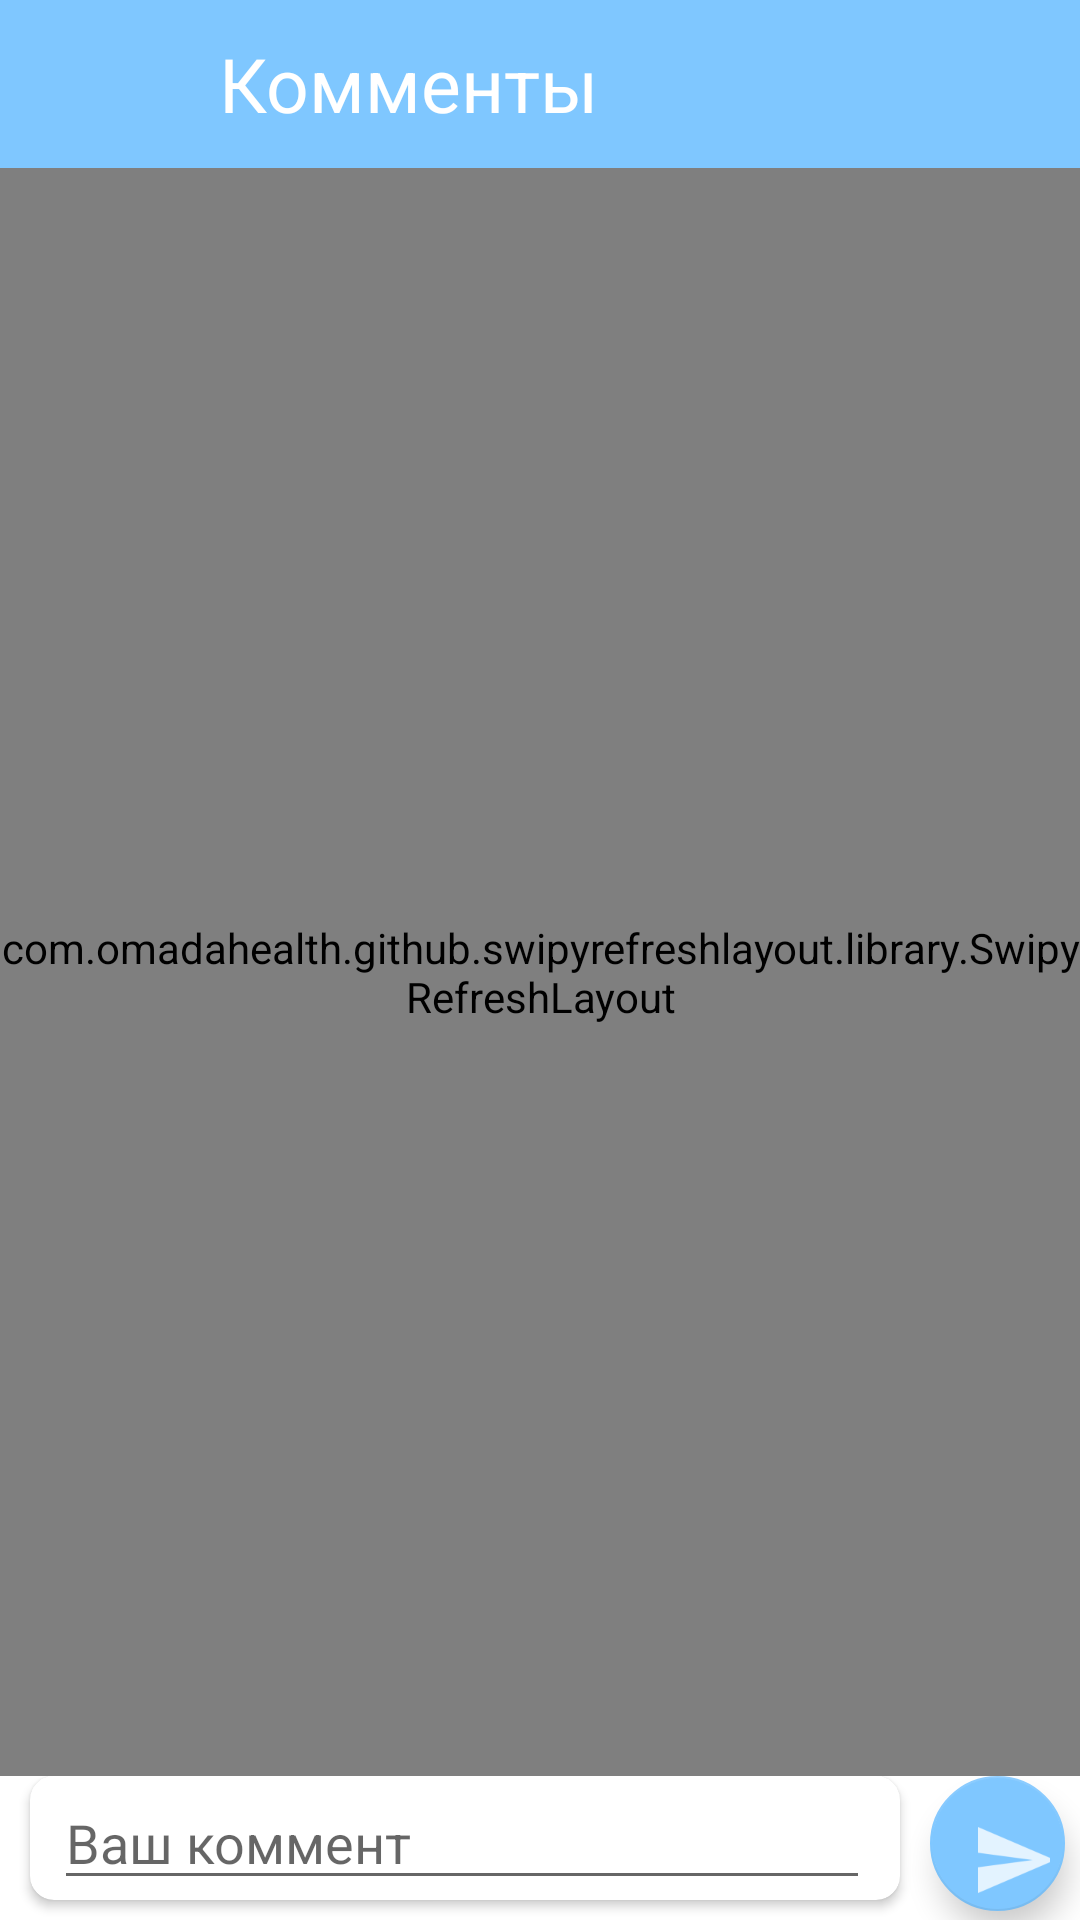

Where to tap for icons on this 1080*1920 app screen, as (x,y):
send: (997,1843)
